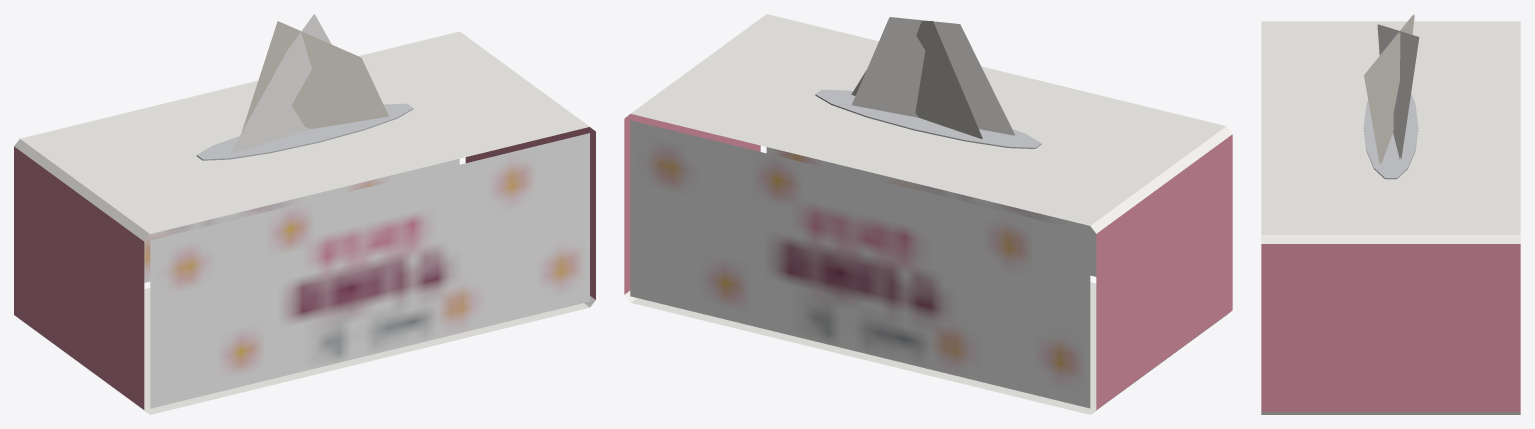
The model's file is SC_Prod_Tissue_Box.gltf.
The picture shows the model from 3 angles, left to right: view 1: azimuth 30°, elevation 25°; view 2: azimuth 150°, elevation 25°; view 3: azimuth 270°, elevation 25°; orthographic projection. The views are drawn at different scales.
Parts seen in each view (by area): view 1: SC_Prod_Tissue_Box; view 2: SC_Prod_Tissue_Box; view 3: SC_Prod_Tissue_Box.
Part boxes in pixels (left/top/right/bottom): SC_Prod_Tissue_Box: left=14, top=14, right=595, bottom=414; SC_Prod_Tissue_Box: left=624, top=14, right=1232, bottom=414; SC_Prod_Tissue_Box: left=1261, top=14, right=1520, bottom=414.
Size of the model in its own units: 0.23 by 0.14 by 0.115.
2 materials, 2 textured.
